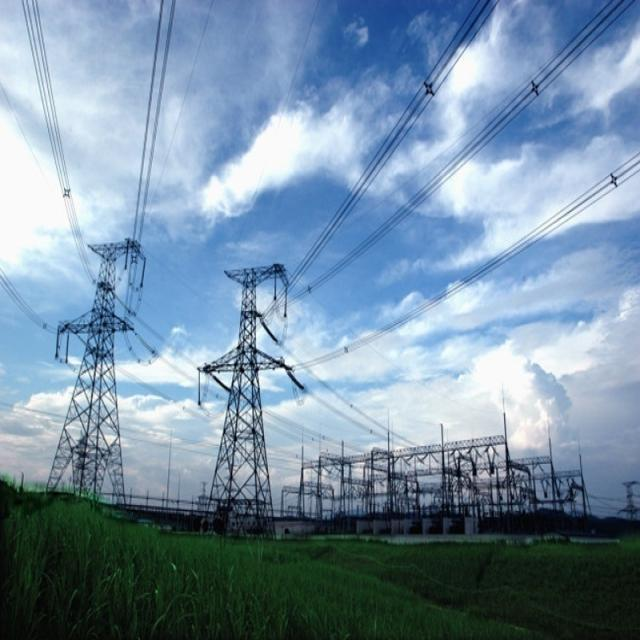non-critical vegetation: (45, 241, 149, 503), (199, 258, 285, 533)
